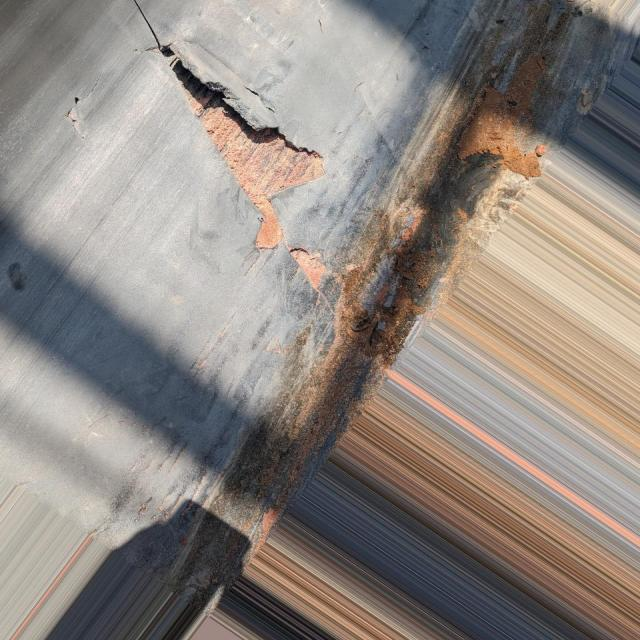Tear: (121, 1, 350, 304), (55, 80, 105, 154)
